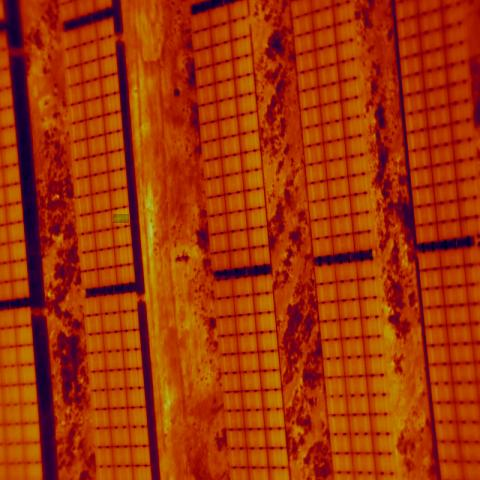fault: (113, 214, 129, 223)
